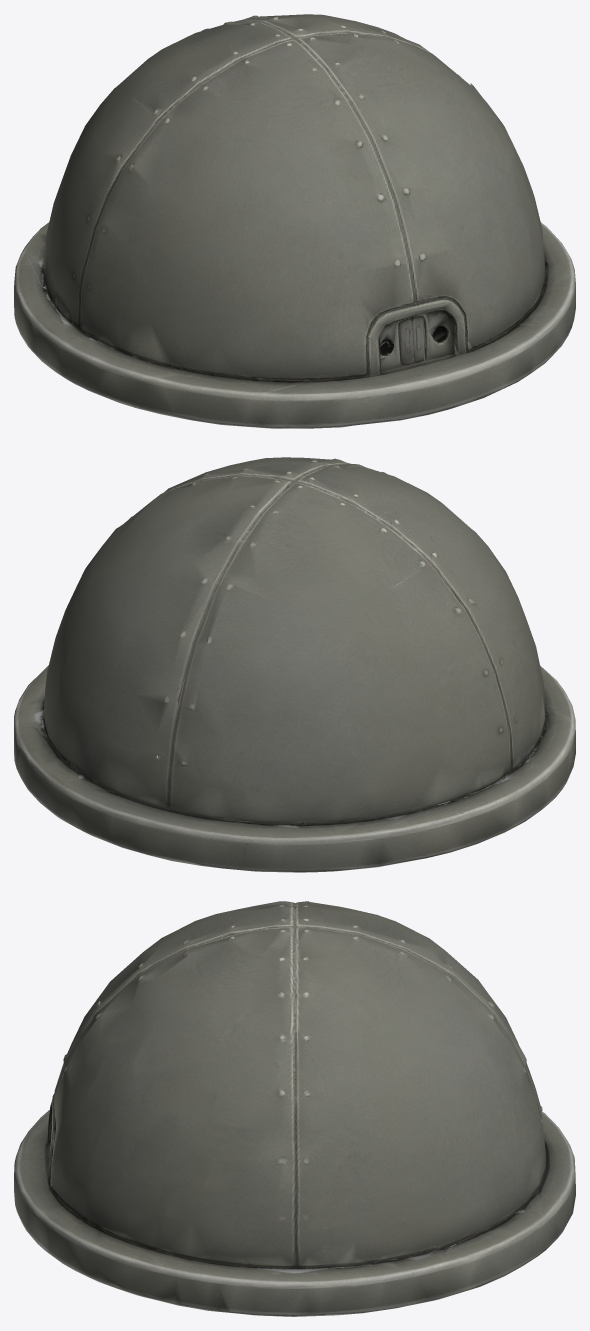
Rendered from Meshy_AI_Riveted_Dome_Helmet_0523151458_texture.fbx.
3 views of the same model, one above another, from view 1: azimuth 30°, elevation 25°; view 2: azimuth 150°, elevation 25°; view 3: azimuth 270°, elevation 25° (orthographic).
Parts seen in each view (by area): view 1: Mesh_0; view 2: Mesh_0; view 3: Mesh_0.
Part boxes in pixels (bbox=[...]): Mesh_0: bbox=[14, 14, 575, 428]; Mesh_0: bbox=[14, 457, 575, 872]; Mesh_0: bbox=[14, 901, 575, 1316].
Size of the model in its own units: 191 by 105 by 191.
1 material, 1 textured.
